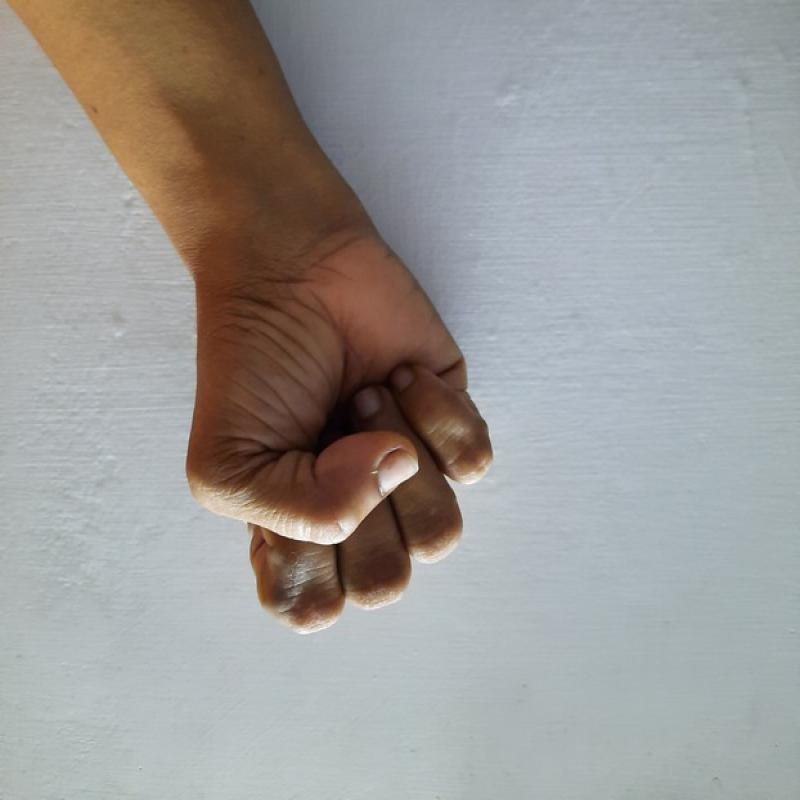Mushti: (160, 238, 522, 642)
